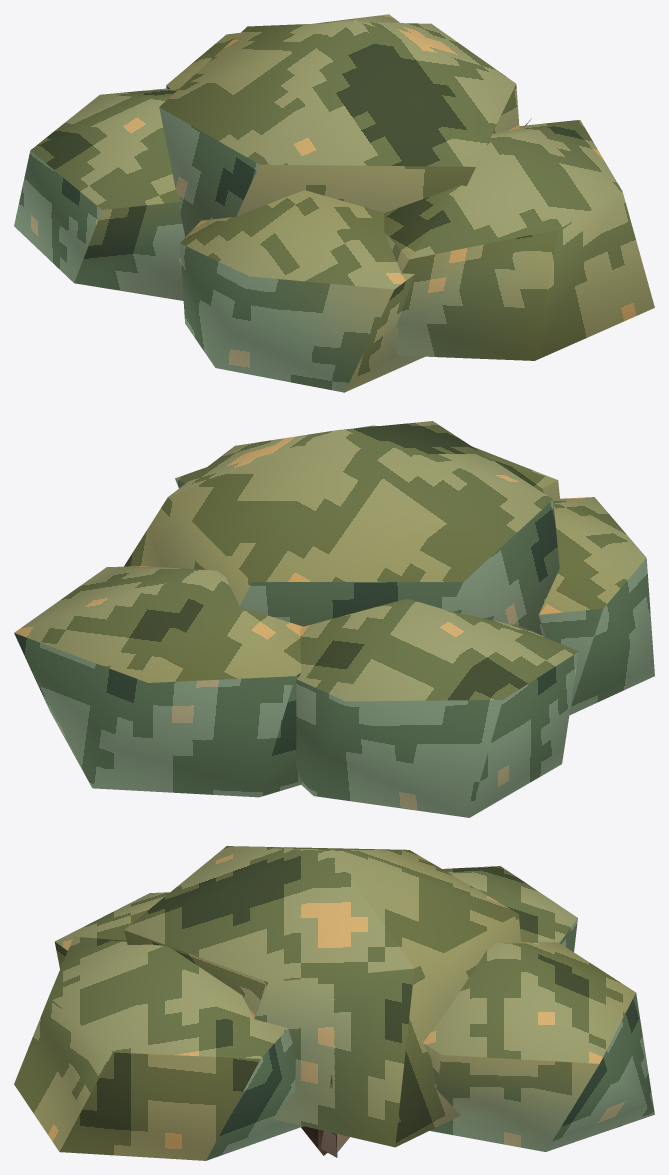
File: wland.scrub__big.glb
3 renders of one model, top to bottom at view 1: azimuth 30°, elevation 25°; view 2: azimuth 150°, elevation 25°; view 3: azimuth 270°, elevation 25°, orthographic. The views are drawn at different scales.
Visible parts, largest first — view 1: kit_foliage; view 2: kit_foliage; view 3: kit_foliage, kit_stems.
Part boxes in pixels (box(x1,y1,x2,y2)): kit_foliage: box(14, 14, 654, 392); kit_foliage: box(14, 421, 654, 817); kit_foliage: box(14, 846, 654, 1160); kit_stems: box(301, 1075, 349, 1157).
Size of the model in its own units: 1.41 by 0.9263 by 1.77.
Materials: 2 (2 with a texture image).
